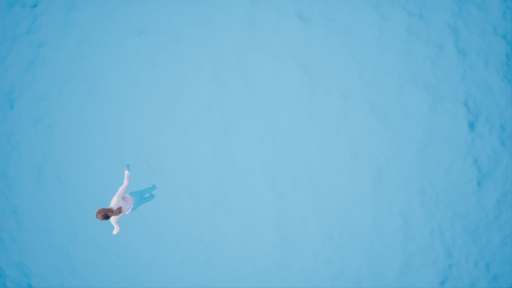person: (93, 165, 164, 234)
